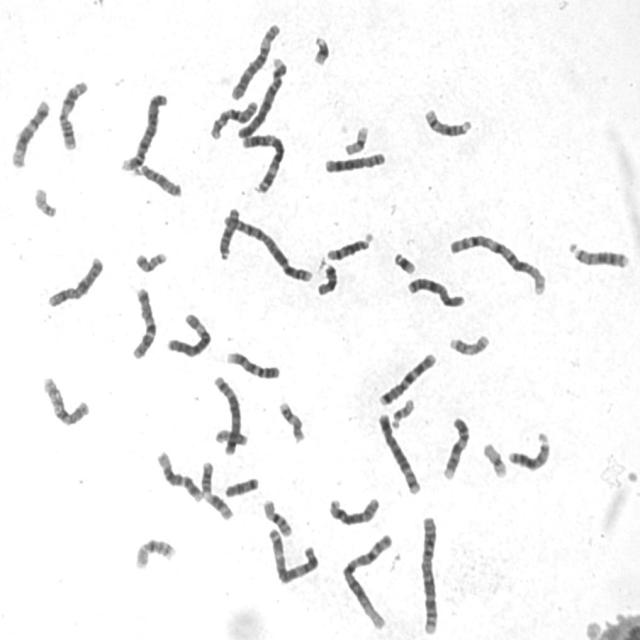A1: (446, 229, 548, 296), (337, 528, 395, 632)
A2: (219, 208, 315, 284), (416, 509, 441, 636)
A3: (264, 524, 320, 585), (238, 129, 287, 194)
B4: (234, 52, 288, 140), (117, 88, 169, 174)
B5: (374, 409, 422, 496), (210, 372, 243, 454)
C10: (38, 372, 92, 428), (207, 96, 259, 141)
C11: (55, 75, 90, 152), (197, 457, 235, 522)
C12: (8, 95, 51, 169), (152, 446, 204, 504)
C6: (227, 18, 282, 102), (162, 309, 214, 358)
C7: (376, 349, 438, 407), (127, 283, 157, 360)
C8: (325, 493, 381, 527), (321, 148, 387, 175)
C9: (439, 413, 471, 481), (223, 346, 281, 381)
D13: (565, 237, 631, 270), (504, 427, 552, 472)
D14: (420, 103, 474, 139), (324, 228, 375, 262)
D15: (130, 160, 183, 198), (215, 204, 241, 262)
E16: (131, 533, 177, 571), (259, 496, 294, 538)
E17: (275, 397, 307, 444), (445, 330, 491, 358)
E18: (312, 259, 338, 297), (221, 474, 260, 498)
F19: (479, 438, 508, 480), (340, 121, 370, 157)
F20: (131, 247, 169, 274), (210, 424, 248, 447)
G21: (308, 31, 332, 67), (390, 248, 417, 276)
G22: (29, 183, 58, 219), (388, 395, 416, 430)
X: (43, 252, 105, 310), (404, 273, 466, 310)
